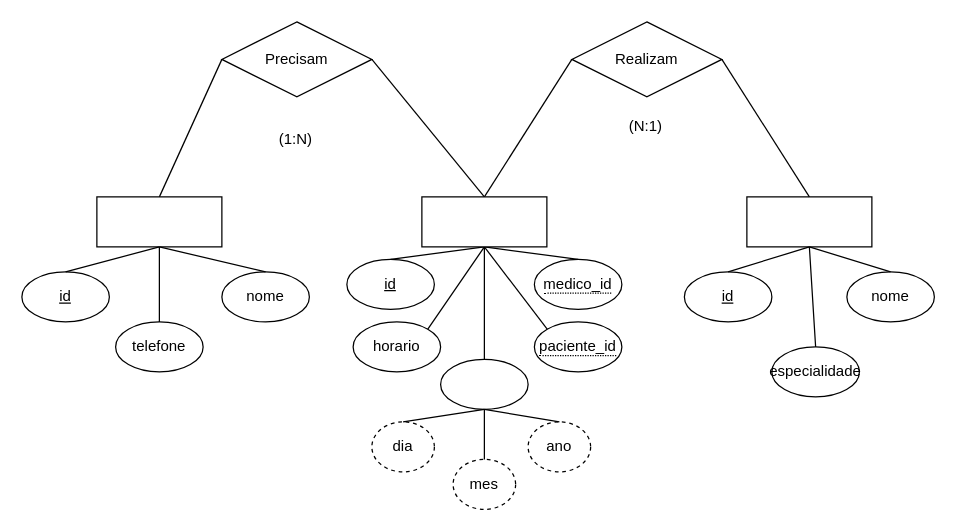
Image size: 956x531. Some labels were removed from this diagram. Here are the shapes that lost their labels. From the top down, the centre of each, then its label:
At point (159, 221): "Pacientes".
At point (484, 221): "Consultas".
At point (809, 221): "Medicos".
At point (483, 383): "data consulta".
